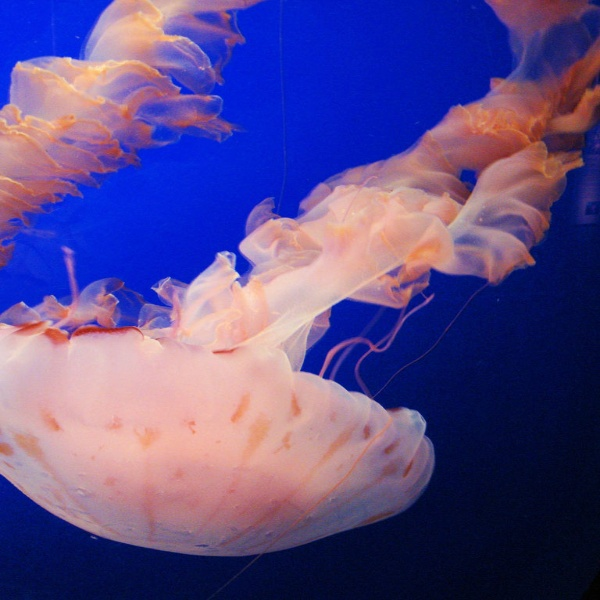Jellyfish: (0, 32, 565, 579)
